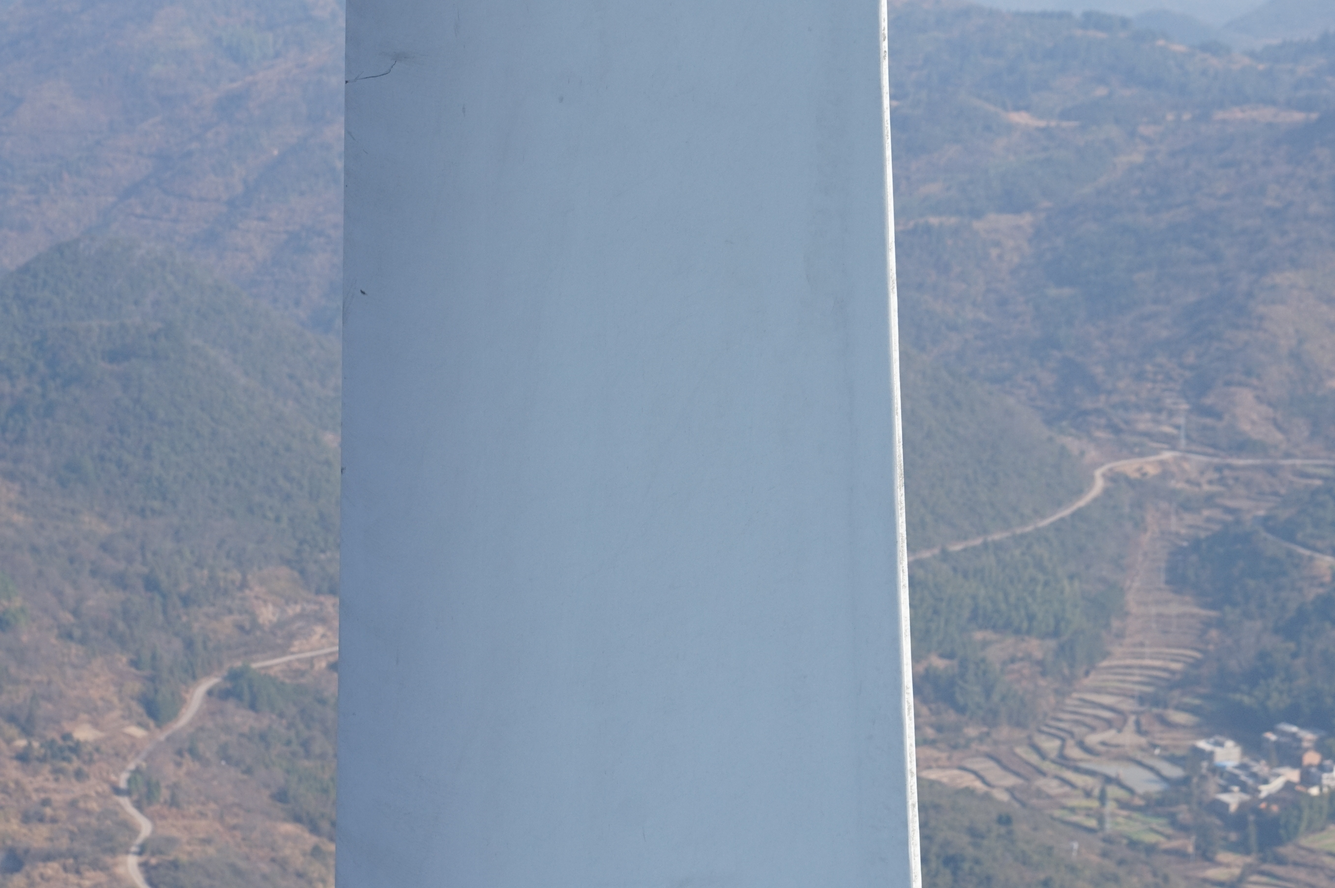Dirt: (346, 59, 397, 83)
